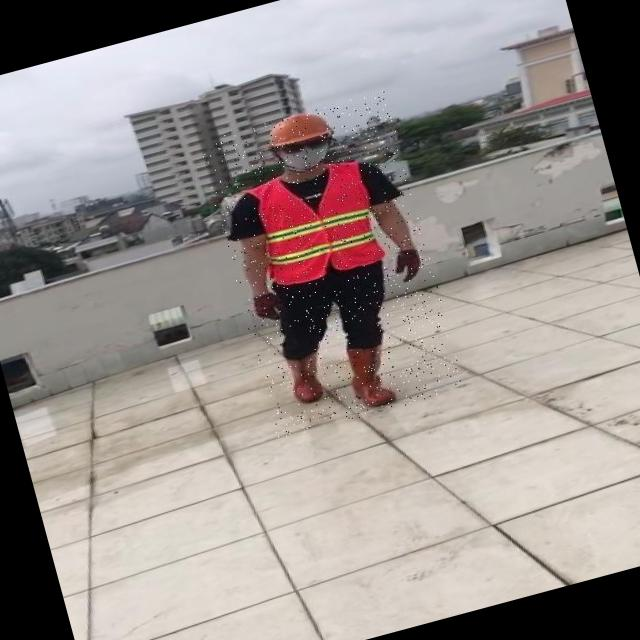hard_hat: (256, 102, 335, 151)
safety_vest: (238, 155, 386, 291)
vehicle: (197, 90, 465, 440)
work_boots: (340, 340, 400, 412), (278, 348, 330, 408)
